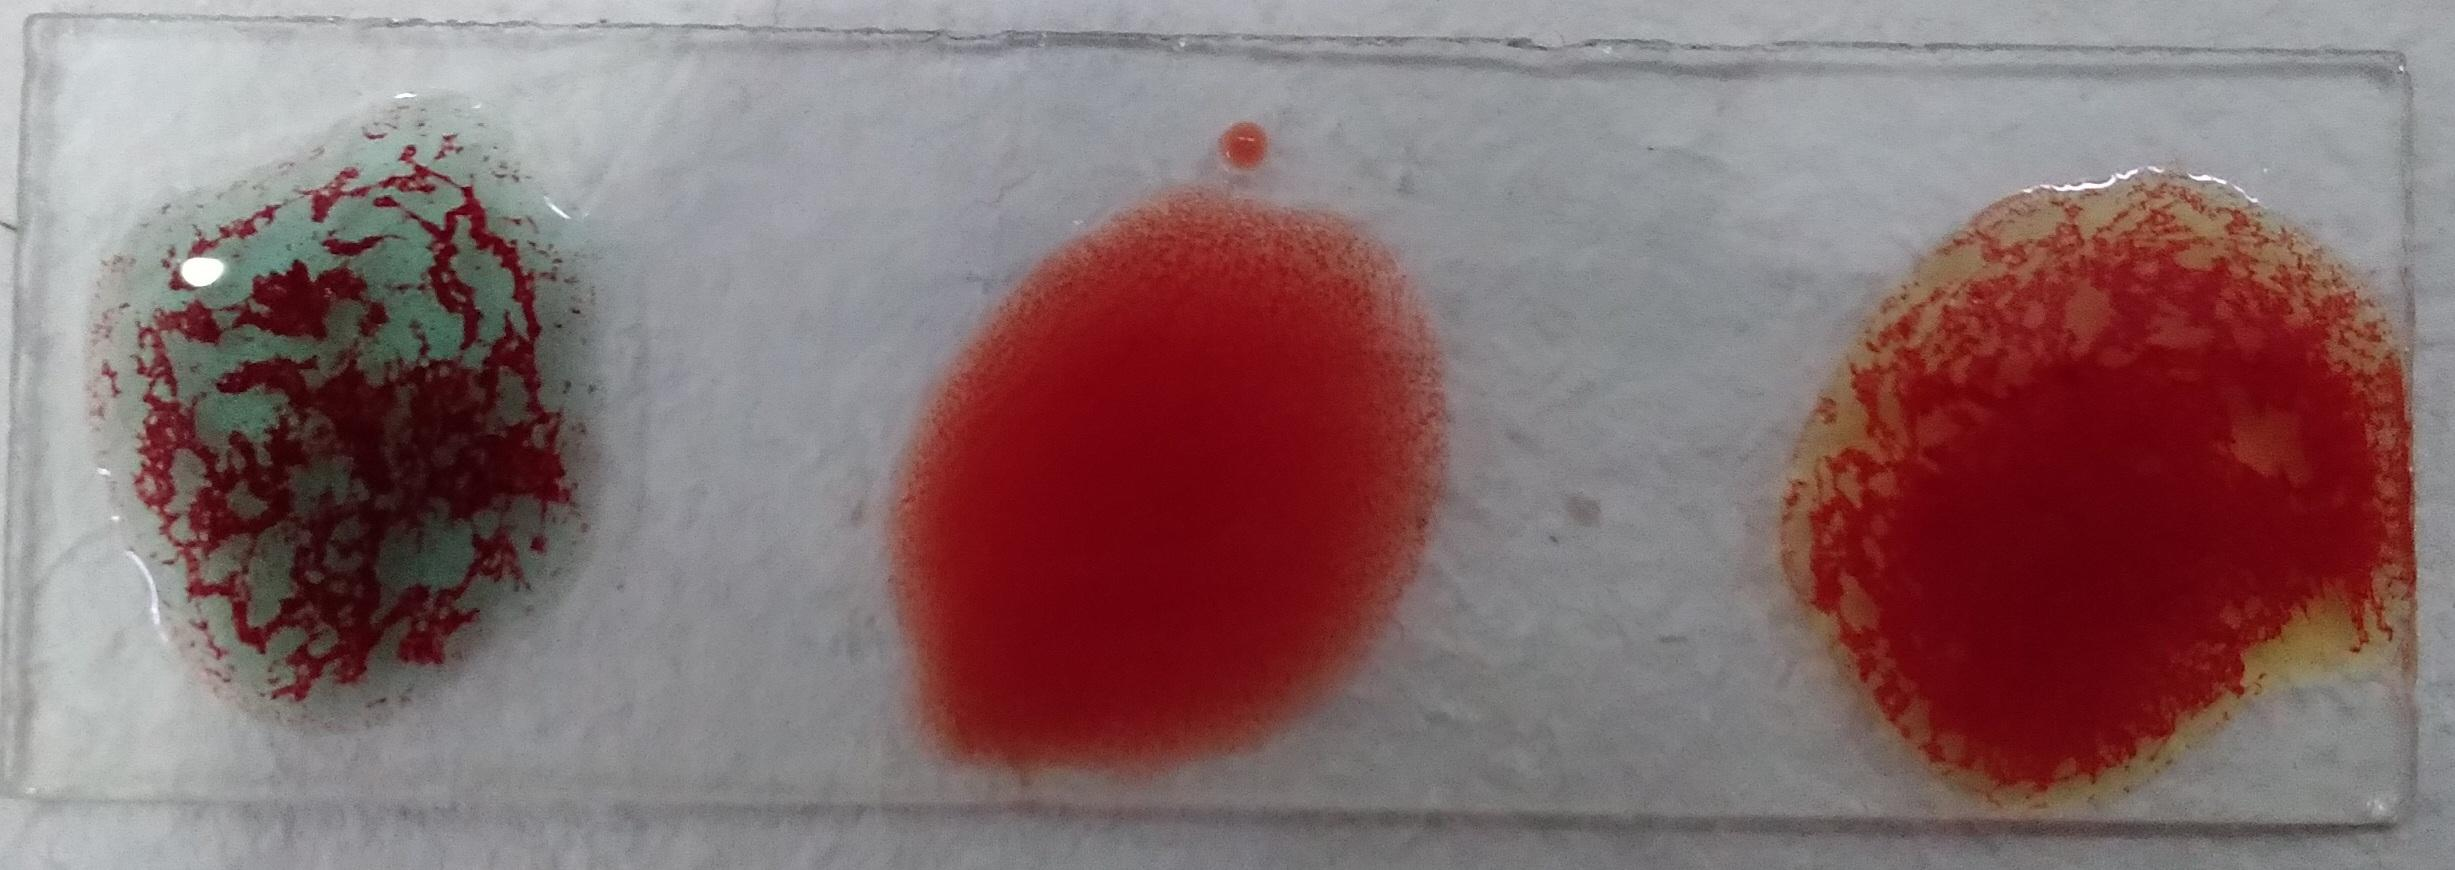A: (1830, 130, 2372, 739)
B: (53, 61, 683, 706)
D: (1008, 100, 1575, 681)
